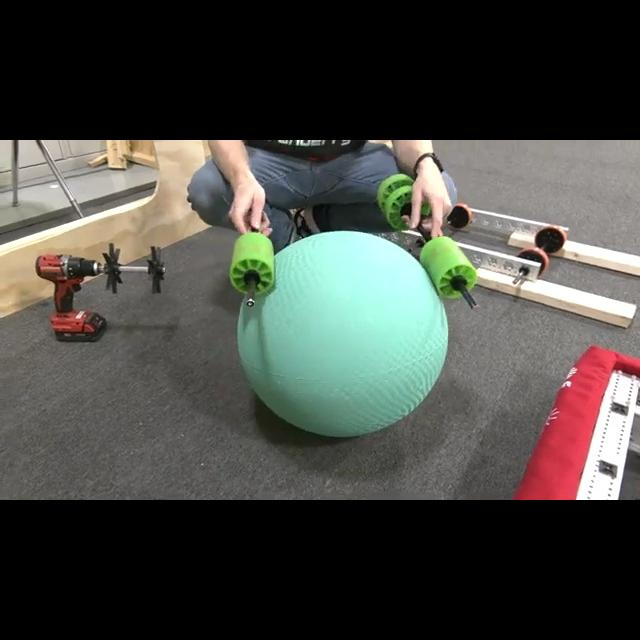ALGAE: (235, 228, 450, 438)
